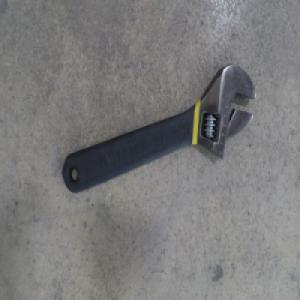AdjustableWrench: (62, 63, 256, 194)
